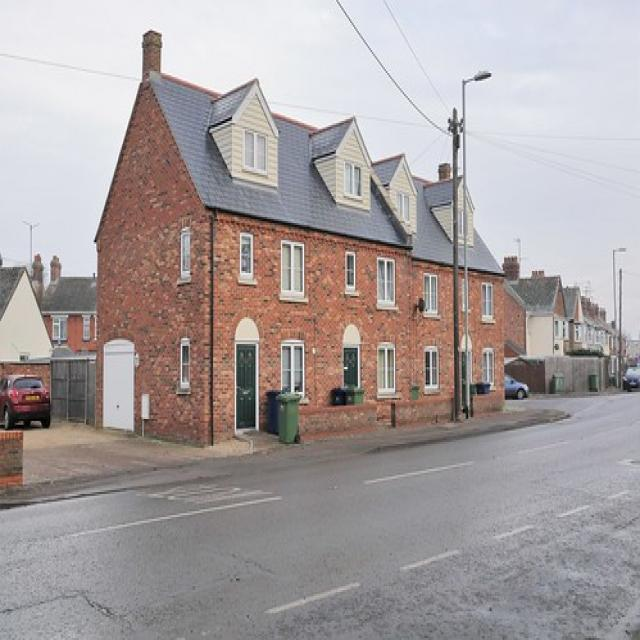Normal_building: (87, 25, 509, 430), (0, 259, 56, 424)
